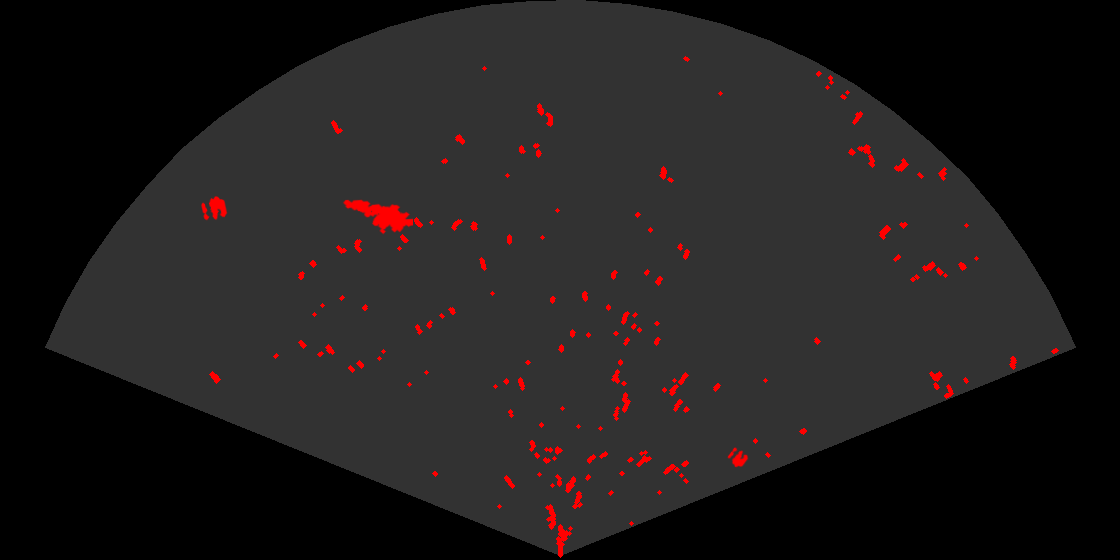ball: (200, 195, 229, 222), (726, 446, 750, 469)
frogman: (342, 198, 413, 236)
